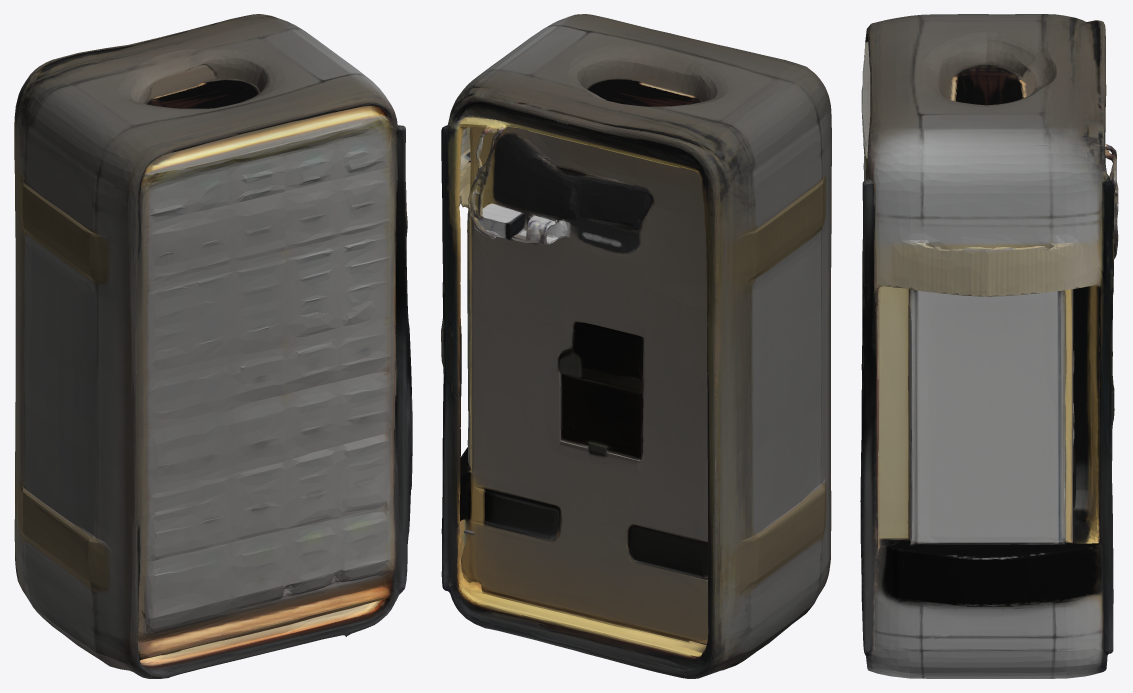
Rendered from seed_locker.glb.
3 renders of one model, left to right at view 1: azimuth 30°, elevation 25°; view 2: azimuth 150°, elevation 25°; view 3: azimuth 270°, elevation 25°, orthographic. The views are drawn at different scales.
Parts seen in each view (by area): view 1: world; view 2: world; view 3: world.
Boxes of the visible parts, bbox=[...] form: world: bbox=[14, 14, 412, 678]; world: bbox=[441, 14, 831, 678]; world: bbox=[860, 14, 1118, 678].
Size of the model in its own units: 0.6036 by 0.9978 by 0.422.
Materials: 1 (1 with a texture image).
